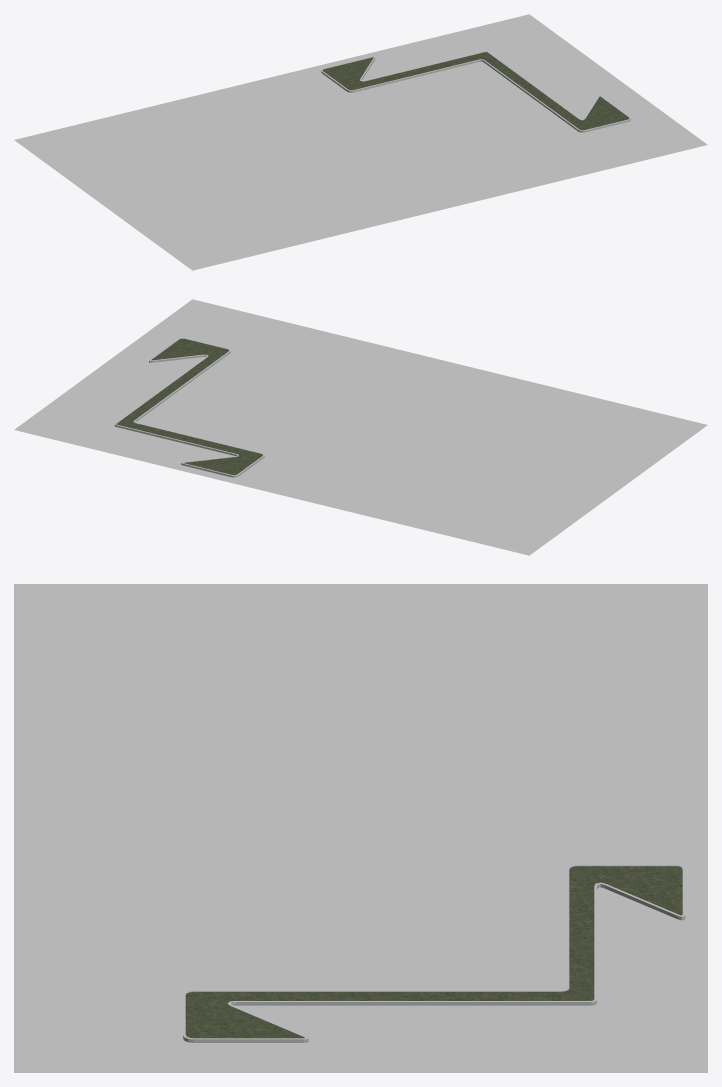
The picture shows the model from 3 angles, top to bottom: view 1: azimuth 30°, elevation 25°; view 2: azimuth 150°, elevation 25°; view 3: azimuth 270°, elevation 25°; orthographic projection. The views are drawn at different scales.
Visible parts, largest first — view 1: Base-60m-05; view 2: Base-60m-05; view 3: Base-60m-05.
Boxes of the visible parts, x1,y1,x2,y2 form: Base-60m-05: [14, 14, 707, 270]; Base-60m-05: [14, 299, 707, 555]; Base-60m-05: [14, 584, 707, 1072].
Bounding box in the file's own units: 60 × 0.2 × 36.
